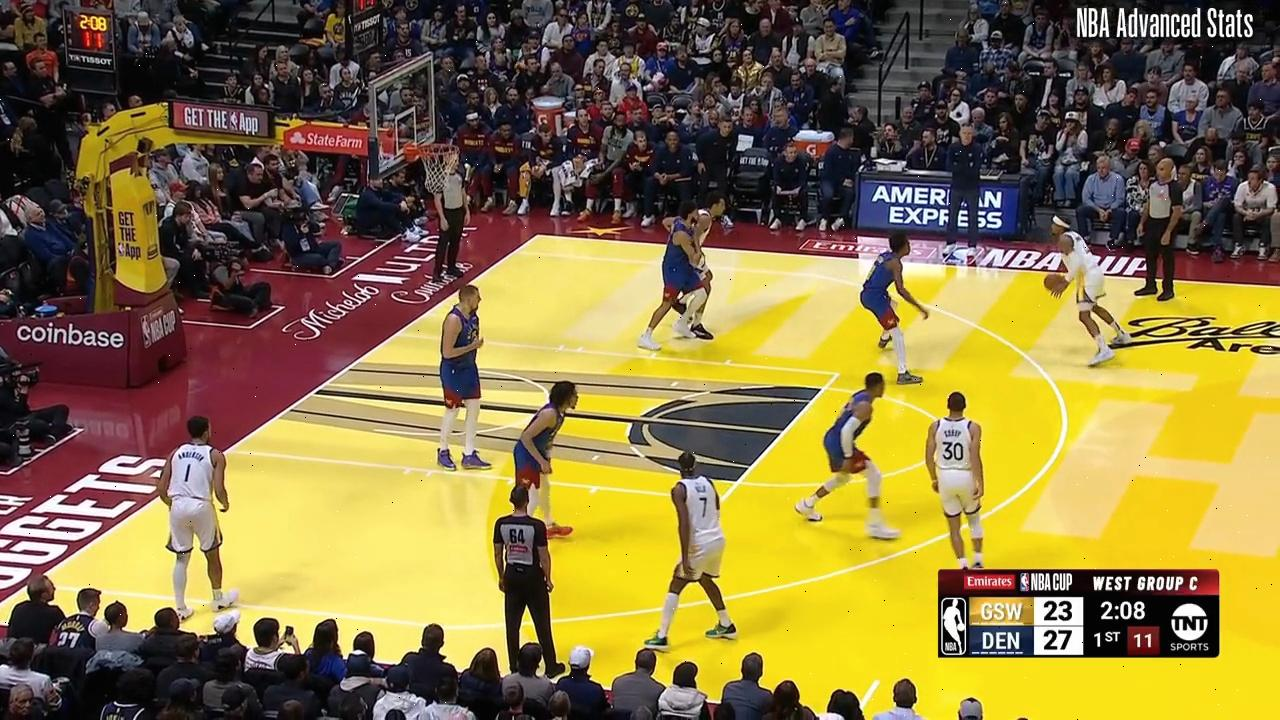basketball: (1045, 271, 1066, 297)
